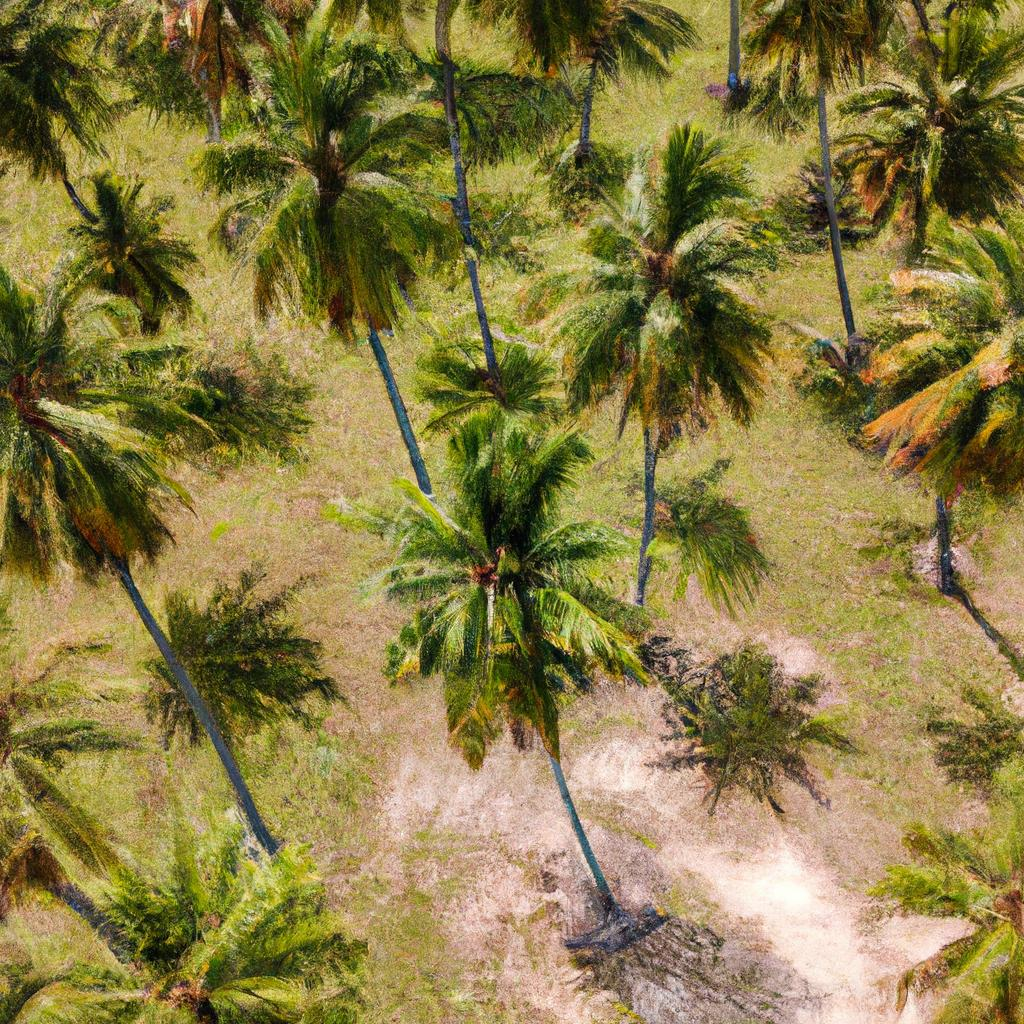coconut_tree: (325, 439, 668, 772), (200, 5, 470, 361), (519, 123, 800, 447)
